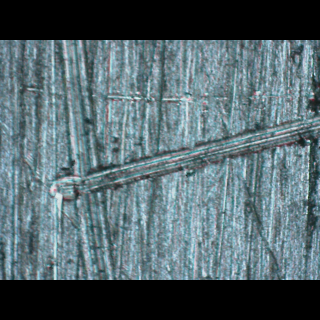d: (43, 95, 320, 207)
